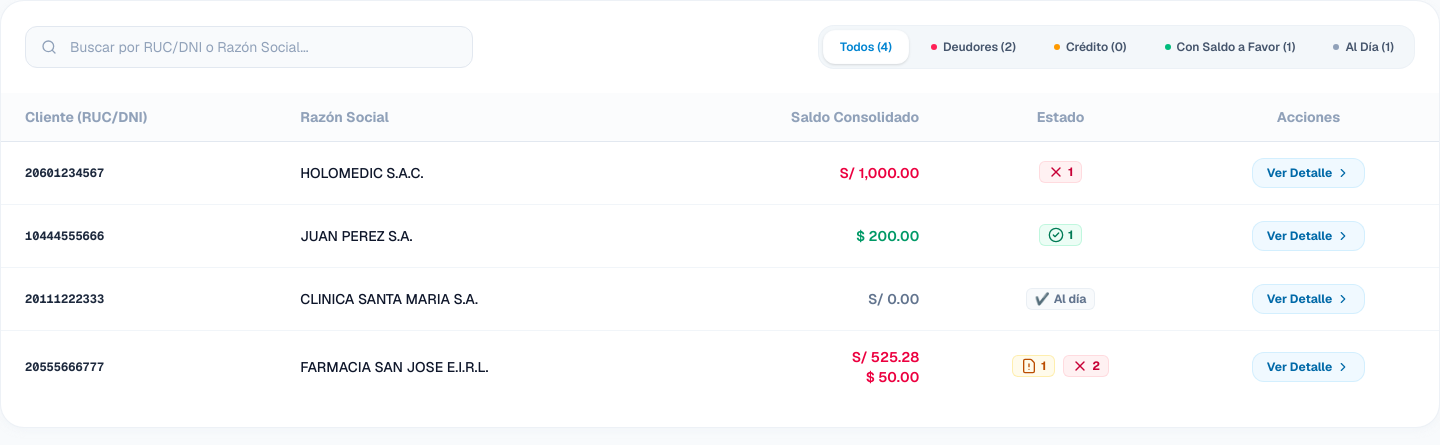
Test: ClientList Component › debe filtrar clientes usando los botones de pestañas de estado
The image size is (1440, 445).
Filtro Deudores
Step 1. Click the button "Deudores (2)" → click(973, 47), box [915, 31, 1032, 63]
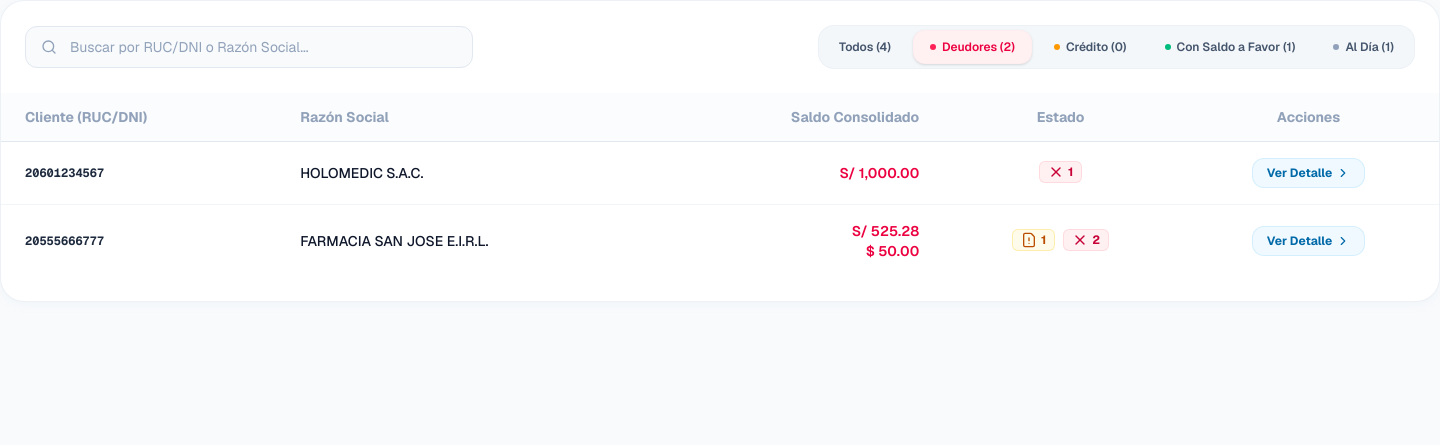
Expected: the text "HOLOMEDIC S.A.C." is shown, [276, 142, 658, 204]
Result: the text "JUAN PEREZ S.A." is gone
Result: the text "CLINICA SANTA MARIA S.A." is gone
Filtro Saldo a Favor
Step 2. Click the button "Con Saldo a Favor (1)" → click(1230, 47), box [1148, 31, 1311, 63]
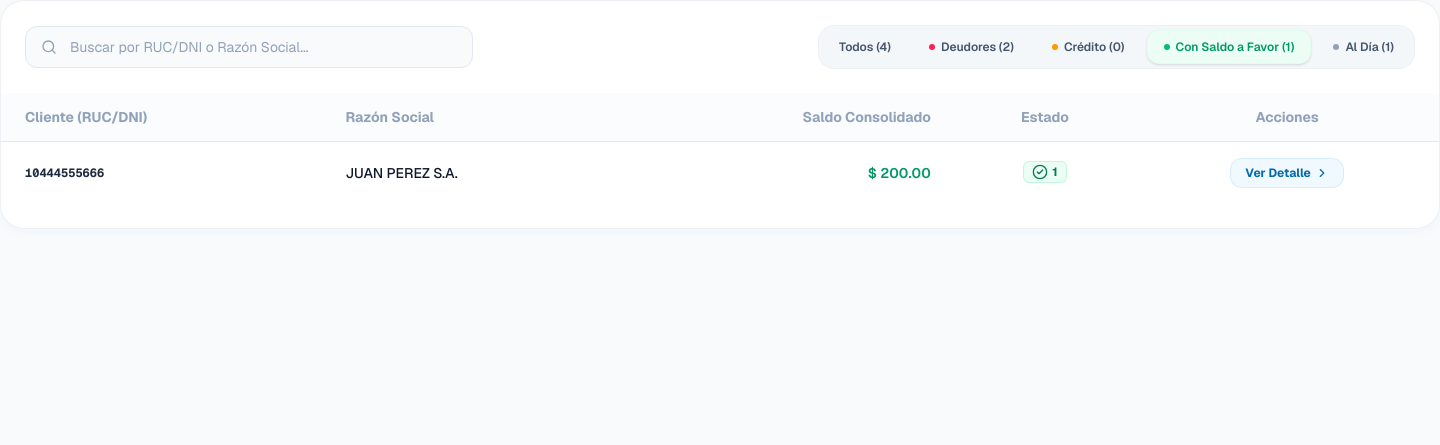
Expected: the text "CLINICA SANTA MARIA S.A." is not shown
Result: the text "HOLOMEDIC S.A.C." is gone
Result: the text "JUAN PEREZ S.A." is shown at [322, 142, 623, 204]
Filtro Al Día
Step 3. Click the button "Al Día (1)" → click(1364, 47), box [1317, 31, 1410, 63]
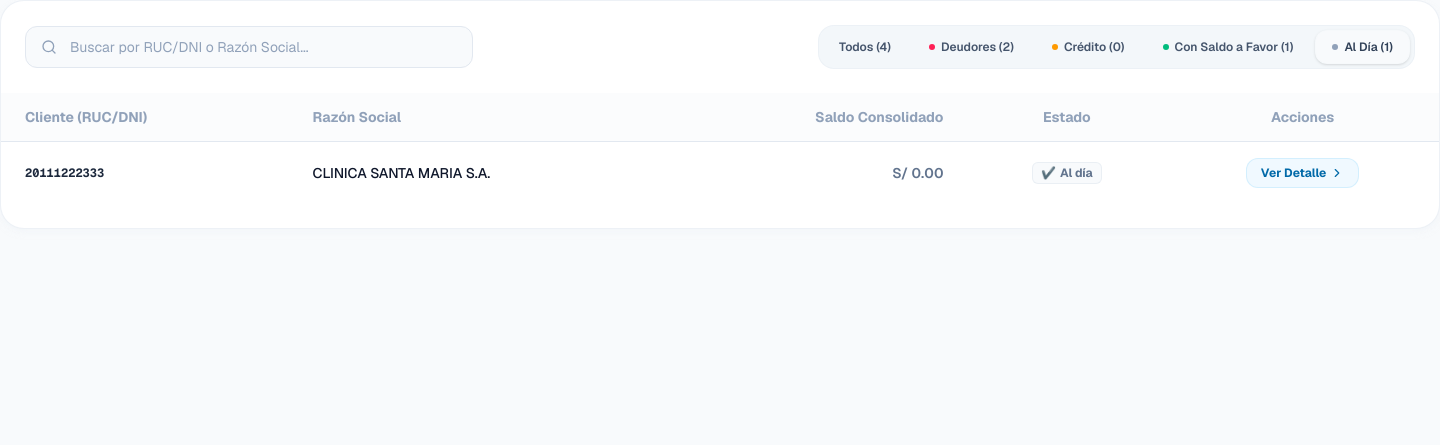
Expected: the text "HOLOMEDIC S.A.C." is not shown
Result: the text "JUAN PEREZ S.A." is gone
Result: the text "CLINICA SANTA MARIA S.A." is shown at [289, 142, 670, 204]
